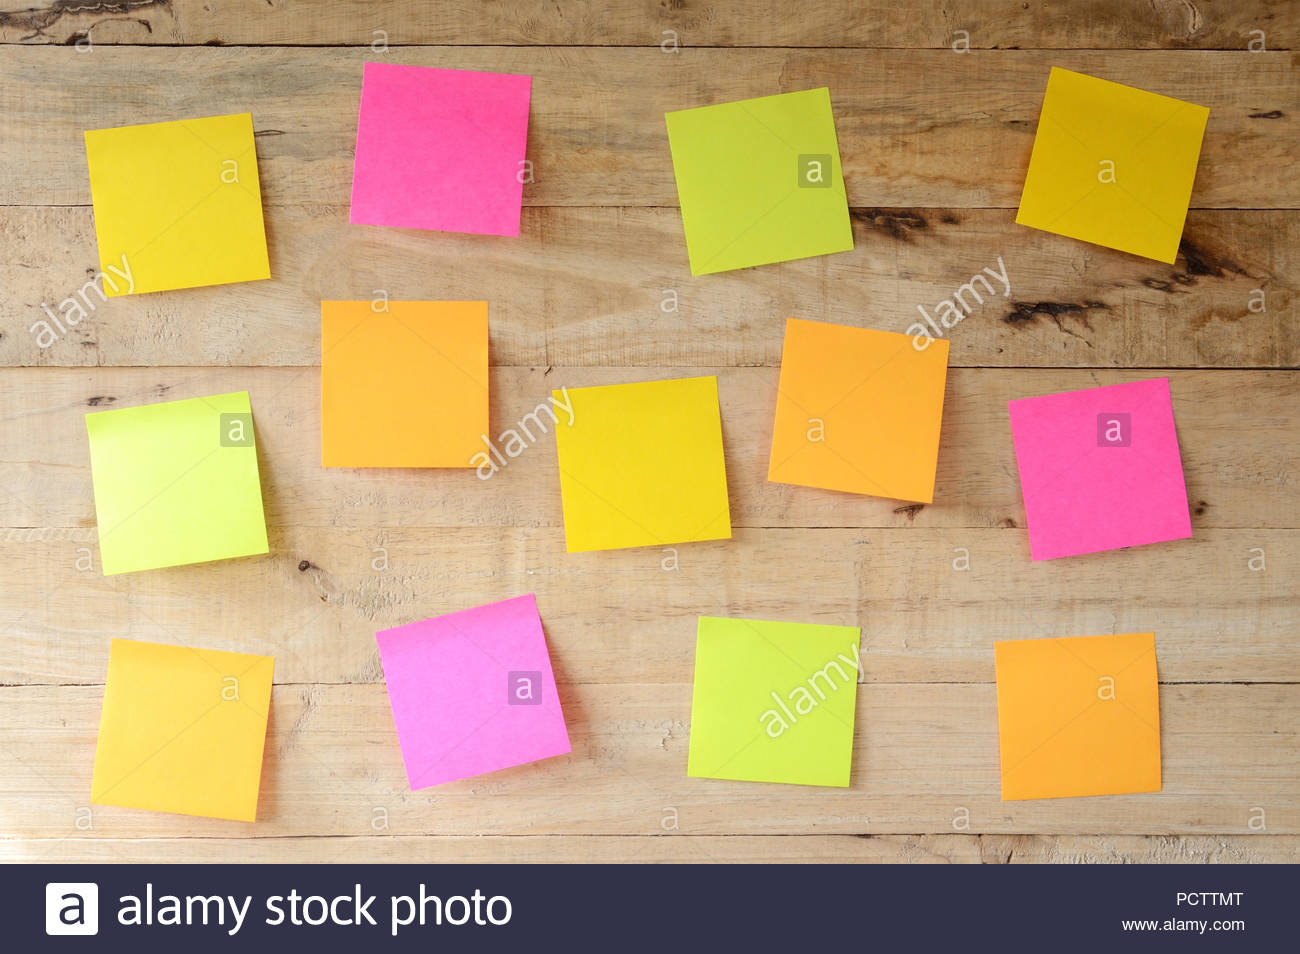stickynote: (374, 587, 577, 802), (1016, 64, 1214, 269), (83, 630, 281, 830), (664, 84, 859, 281), (1007, 372, 1201, 564), (678, 607, 869, 799), (83, 390, 277, 575), (766, 317, 951, 509), (82, 112, 274, 295), (348, 57, 532, 246), (549, 375, 737, 559), (314, 292, 503, 475), (989, 630, 1172, 801)
